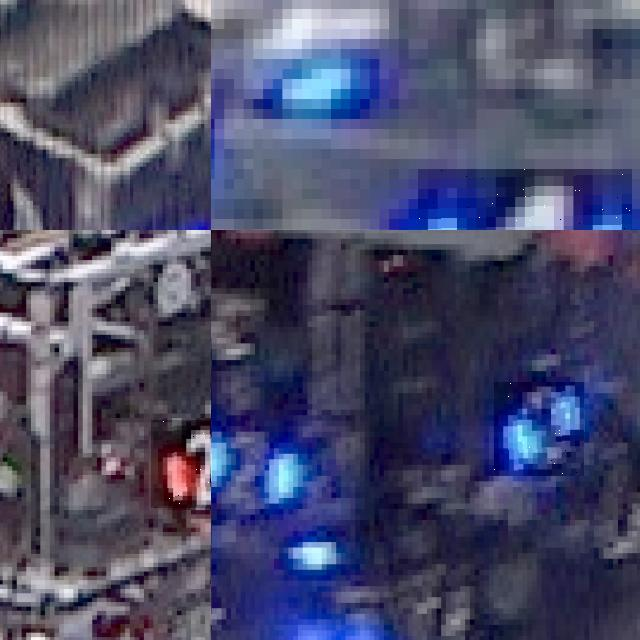B2: (494, 382, 584, 476), (211, 415, 297, 509)
B4: (418, 169, 631, 230)
R2: (151, 420, 211, 507)
